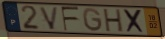2: (20, 4, 42, 31)
F: (60, 7, 80, 32)
G: (81, 7, 104, 33)
H: (103, 8, 124, 34)
V: (39, 6, 60, 31)
X: (122, 8, 146, 34)
